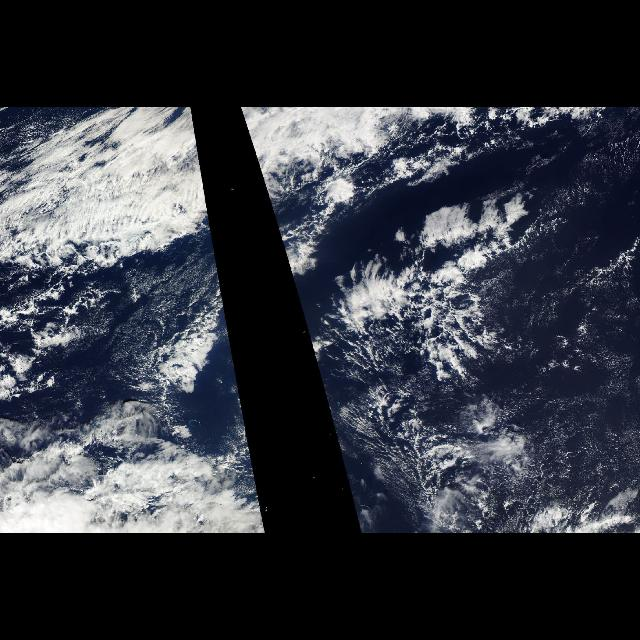Sugar: (543, 373, 637, 509)
